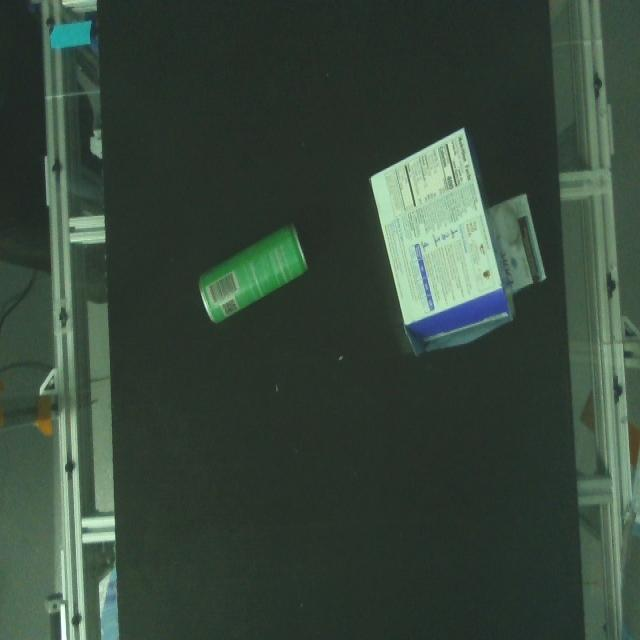non-paper: (191, 203, 319, 333)
paper: (370, 124, 551, 372)
